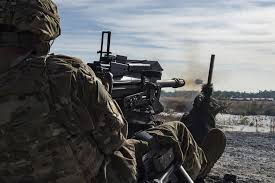gun: (81, 29, 185, 118)
